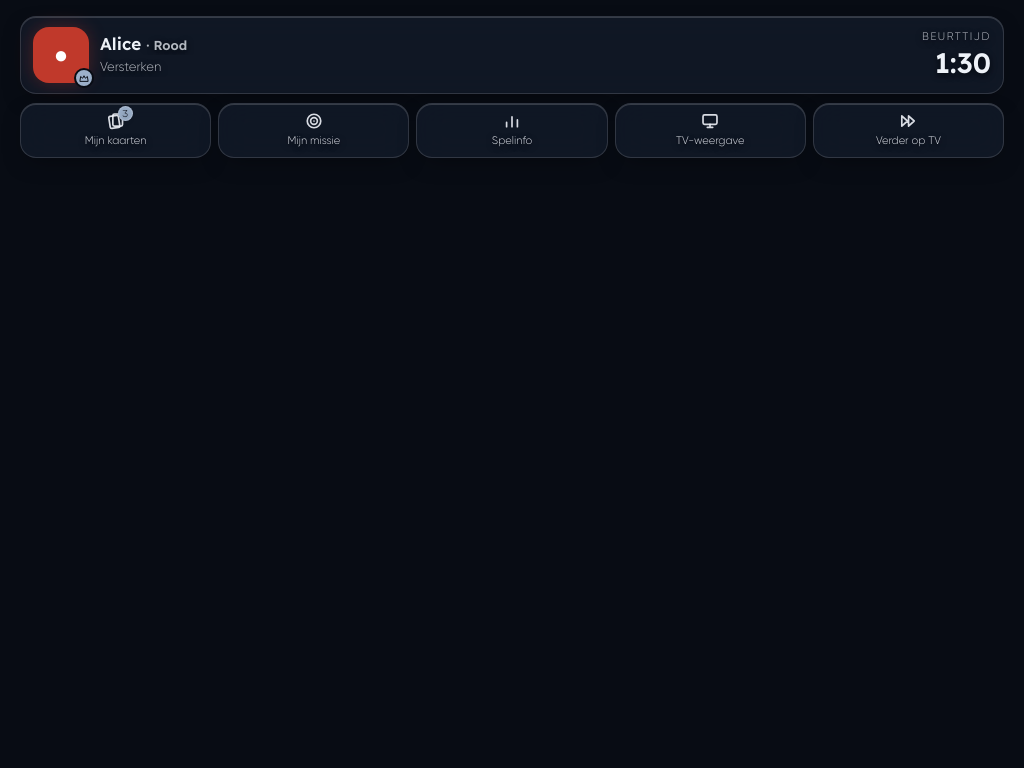
Test: PhonePlayerHeader › taak 6 — vrijwillig inleggen alleen zichtbaar tijdens Versterken › toont de "Leg 3 kaarten in"-knop in browse-modus tijdens Versterken met een geldige set
Step 1. Click the button "3 Mijn kaarten" → (116, 130), box [21, 104, 210, 157]
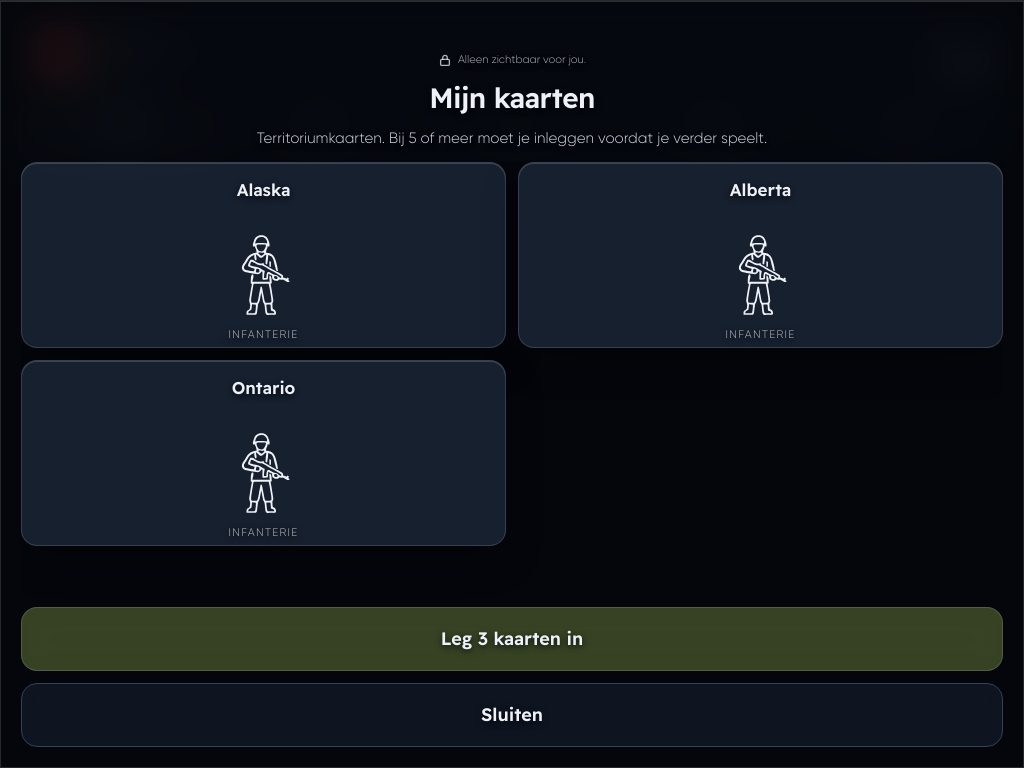
Check: the button "Leg 3 kaarten in" is shown, box [21, 607, 1003, 671]
